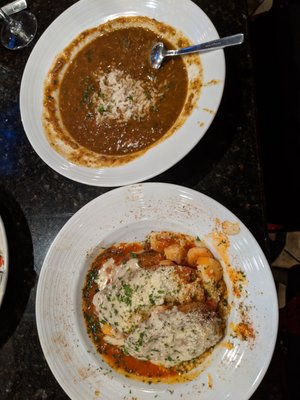pizza: (0, 0, 38, 51)
salad: (149, 33, 245, 69)
sushi: (35, 181, 268, 398), (18, 4, 226, 189)
